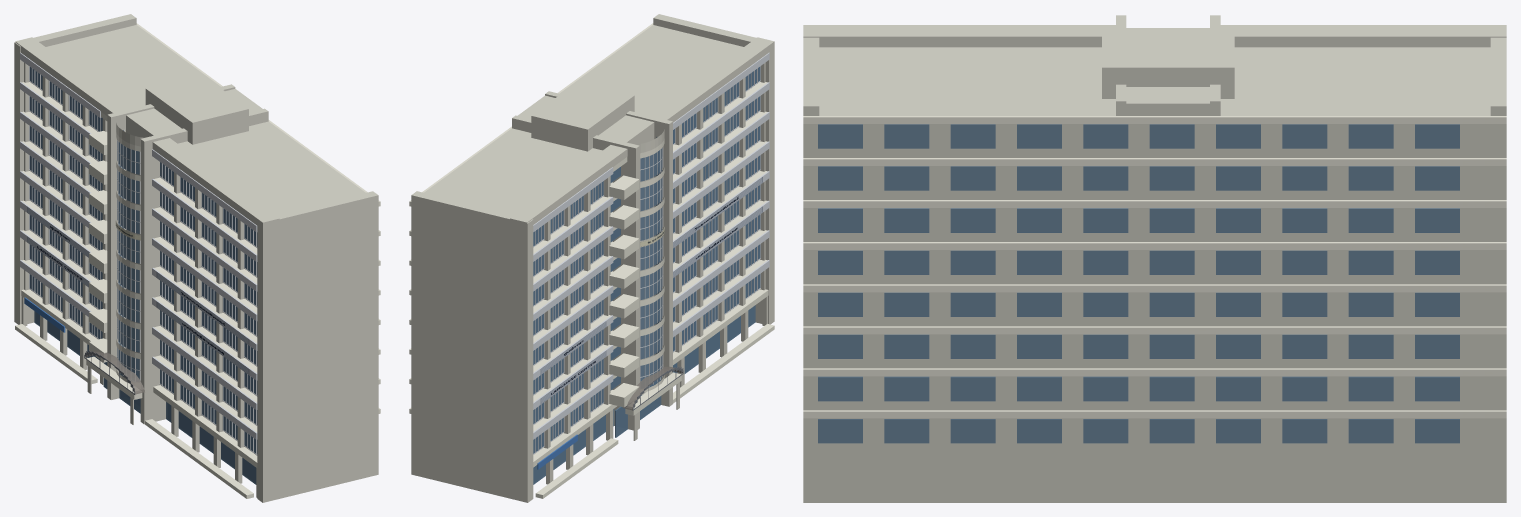
3 views of the same model, side by side, from view 1: azimuth 30°, elevation 25°; view 2: azimuth 150°, elevation 25°; view 3: azimuth 270°, elevation 25° (orthographic). The views are drawn at different scales.
Parts seen in each view (by area): view 1: Valaya_75th_Anniversary_Building_9F; view 2: Valaya_75th_Anniversary_Building_9F; view 3: Valaya_75th_Anniversary_Building_9F.
Part boxes in pixels (x1=…): Valaya_75th_Anniversary_Building_9F: x1=14, y1=14, x2=380, y2=502; Valaya_75th_Anniversary_Building_9F: x1=409, y1=14, x2=774, y2=502; Valaya_75th_Anniversary_Building_9F: x1=803, y1=15, x2=1506, y2=502.
Bounding box in the file's own units: 16.83 × 34.8 × 53.
14 materials, 6 textured.
